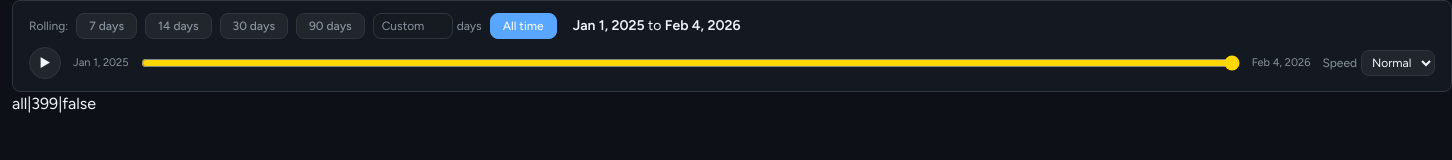
TimelineControls › takes a custom rolling length
Type "21" into the number field named "Custom rolling window in days" at (413, 26), box 373,13 -> 453,39
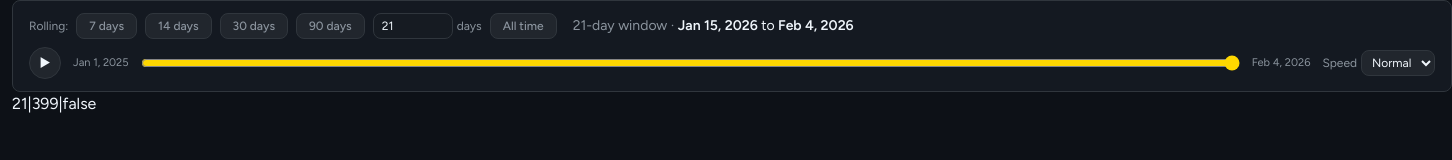
Now the text with test id "state" reads "21|399|false", box 12,94 -> 96,113
Now the element with test id "timeline-range" shows "21-day window", box 573,16 -> 854,36
